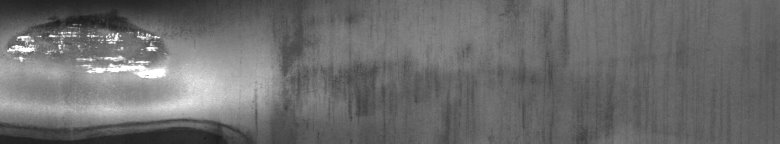ke: (4, 11, 360, 136)
